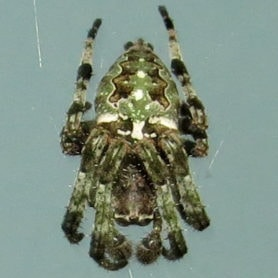spider: (38, 3, 234, 273)
